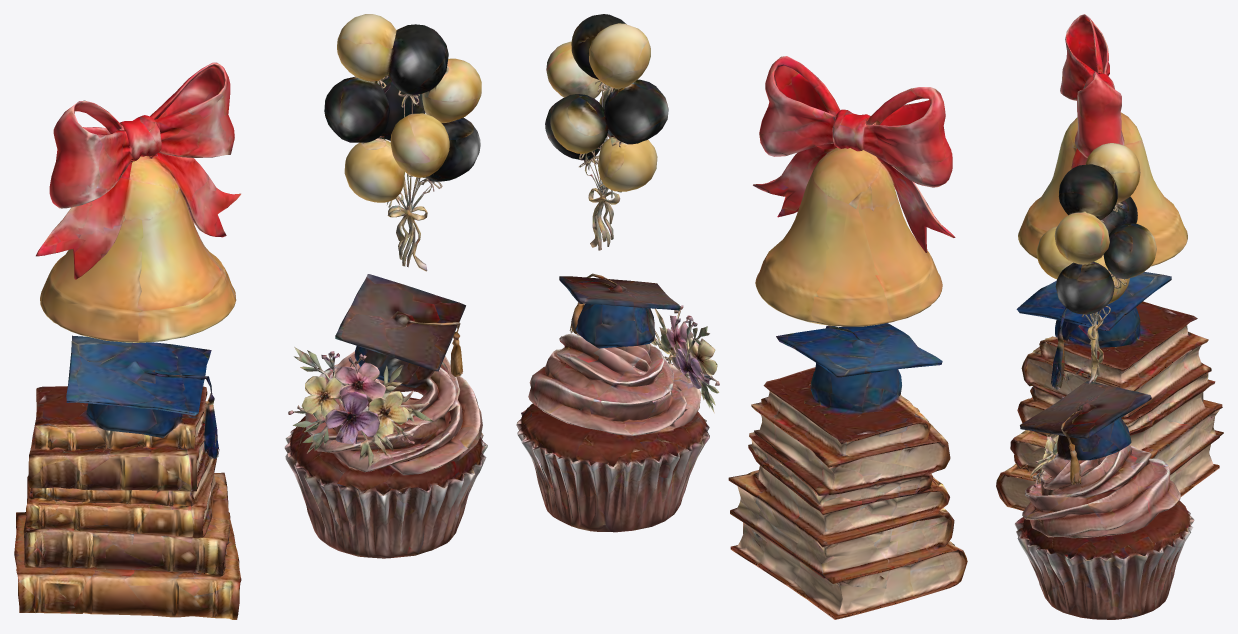
3 views of the same model, side by side, from view 1: azimuth 30°, elevation 25°; view 2: azimuth 150°, elevation 25°; view 3: azimuth 270°, elevation 25° (orthographic). The views are drawn at different scales.
Parts seen in each view (by area): view 1: Mesh 1, Mesh 4, Mesh 2, Mesh 5; view 2: Mesh 1, Mesh 2, Mesh 4, Mesh 5; view 3: Mesh 4, Mesh 1, Mesh 5, Mesh 2.
Boxes of the visible parts, x1=… form: Mesh 1: x1=14, y1=335, x2=241, y2=619; Mesh 4: x1=284, y1=274, x2=487, y2=558; Mesh 2: x1=36, y1=62, x2=240, y2=342; Mesh 5: x1=324, y1=14, x2=481, y2=271; Mesh 1: x1=728, y1=323, x2=967, y2=619; Mesh 2: x1=753, y1=56, x2=955, y2=326; Mesh 4: x1=516, y1=273, x2=719, y2=532; Mesh 5: x1=545, y1=14, x2=668, y2=250; Mesh 4: x1=1014, y1=375, x2=1194, y2=619; Mesh 1: x1=996, y1=272, x2=1223, y2=510; Mesh 5: x1=1036, y1=143, x2=1156, y2=384; Mesh 2: x1=1018, y1=14, x2=1187, y2=266.
Size of the model in its own units: 1.78 by 1.9 by 0.8813.
Materials: 4 (4 with a texture image).
